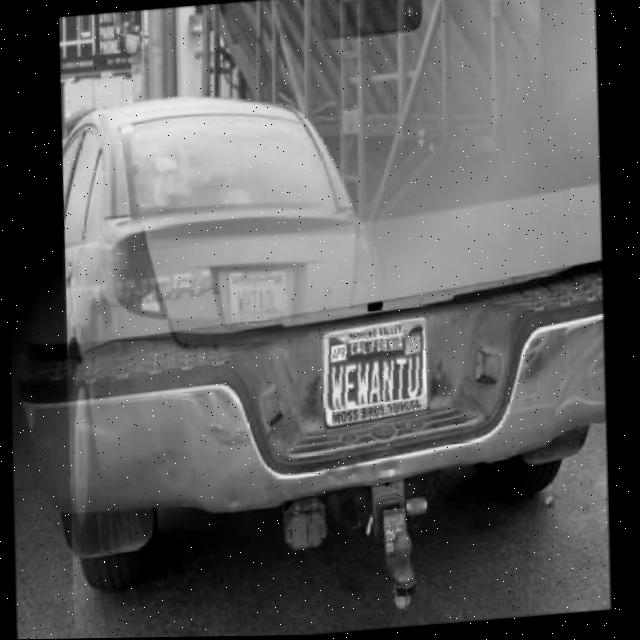LicensePlate: (321, 331, 433, 413)
